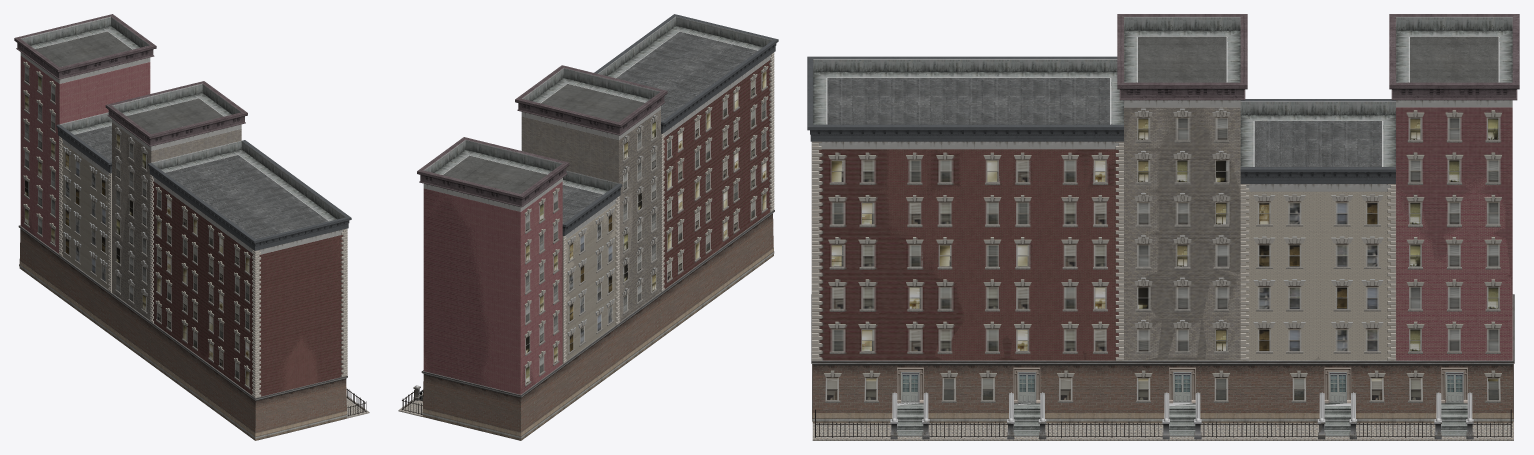
File: redlight_7_build.FBX
The picture shows the model from 3 angles, left to right: view 1: azimuth 30°, elevation 25°; view 2: azimuth 150°, elevation 25°; view 3: azimuth 270°, elevation 25°; orthographic projection. The views are drawn at different scales.
Visible parts, largest first — view 1: LOD_redlight_7_build, redlight_7_build, windowframe_redl_7_build_1, frame_redlight_7_build, LOD_em_windowlight_7_redlight, ledgeframe_redlight_7_build; view 2: LOD_redlight_7_build, redlight_7_build, windowframe_redl_7_build_1, frame_redlight_7_build, LOD_em_windowlight_7_redlight, ledgeframe_redlight_7_build; view 3: redlight_7_build, LOD_redlight_7_build, windowframe_redl_7_build_1, LOD_stairs_redlight_7_build, LOD_em_windowlight_7_redlight, frame_redlight_7_build, fence_redlight_7_build, stairs_redlight_7_build, ledgeframe_redlight_7_build.
Part boxes in pixels (bbox=[...]): LOD_redlight_7_build: bbox=[15, 14, 351, 432]; redlight_7_build: bbox=[14, 14, 351, 440]; windowframe_redl_7_build_1: bbox=[23, 62, 250, 389]; frame_redlight_7_build: bbox=[59, 136, 347, 398]; LOD_em_windowlight_7_redlight: bbox=[25, 76, 249, 386]; ledgeframe_redlight_7_build: bbox=[20, 45, 344, 244]; LOD_redlight_7_build: bbox=[417, 15, 778, 432]; redlight_7_build: bbox=[417, 14, 778, 440]; windowframe_redl_7_build_1: bbox=[524, 66, 768, 386]; frame_redlight_7_build: bbox=[562, 52, 774, 364]; LOD_em_windowlight_7_redlight: bbox=[526, 71, 766, 383]; ledgeframe_redlight_7_build: bbox=[425, 45, 774, 228]; redlight_7_build: bbox=[807, 14, 1519, 423]; LOD_redlight_7_build: bbox=[807, 14, 1519, 412]; windowframe_redl_7_build_1: bbox=[824, 108, 1501, 403]; LOD_stairs_redlight_7_build: bbox=[812, 402, 1513, 439]; LOD_em_windowlight_7_redlight: bbox=[831, 118, 1498, 381]; frame_redlight_7_build: bbox=[811, 141, 1395, 361]; fence_redlight_7_build: bbox=[812, 409, 1513, 440]; stairs_redlight_7_build: bbox=[890, 392, 1473, 439]; ledgeframe_redlight_7_build: bbox=[818, 89, 1516, 176].
Size of the model in its own units: 512 by 958 by 1804.
